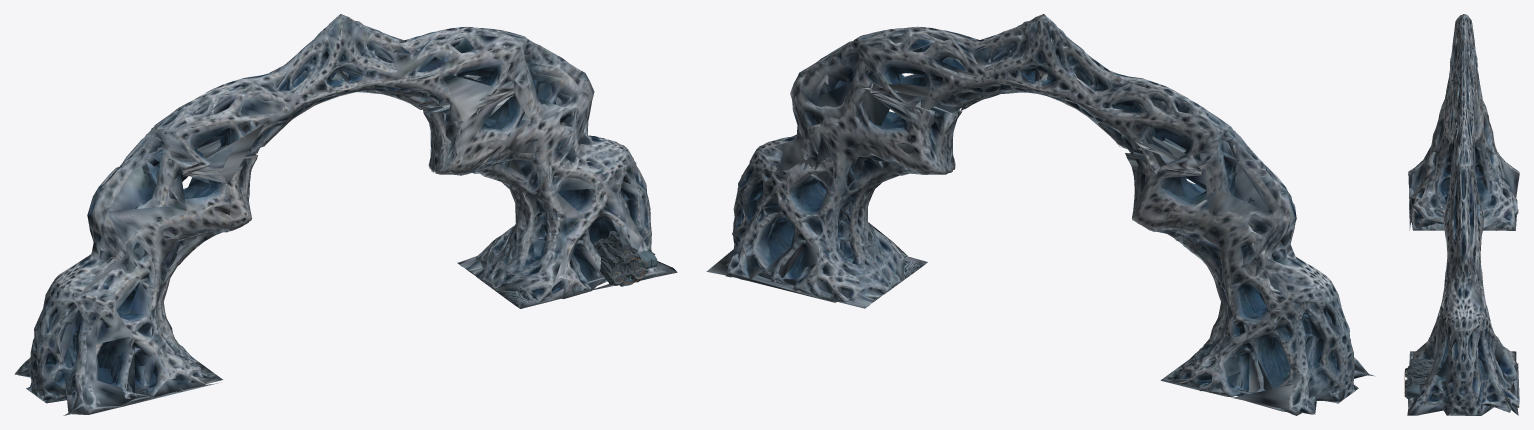
Rendered from terrasa-vrat-v17.glb.
3 renders of one model, left to right at view 1: azimuth 30°, elevation 25°; view 2: azimuth 150°, elevation 25°; view 3: azimuth 270°, elevation 25°, orthographic. The views are drawn at different scales.
Visible parts, largest first — view 1: LOD0_Mineral, LOD2_Mineral, LOD1_Mineral; view 2: LOD0_Mineral, LOD1_Mineral, LOD2_Mineral; view 3: LOD0_Mineral, LOD1_Mineral, LOD2_Mineral.
Part boxes in pixels (bbox=[...]): LOD0_Mineral: bbox=[14, 14, 657, 415]; LOD2_Mineral: bbox=[29, 14, 677, 414]; LOD1_Mineral: bbox=[15, 14, 672, 413]; LOD0_Mineral: bbox=[725, 14, 1374, 415]; LOD1_Mineral: bbox=[724, 14, 1368, 415]; LOD2_Mineral: bbox=[706, 16, 1368, 409]; LOD0_Mineral: bbox=[1405, 14, 1519, 415]; LOD1_Mineral: bbox=[1404, 14, 1519, 415]; LOD2_Mineral: bbox=[1406, 19, 1519, 415].
Bounding box in the file's own units: 121 × 58.14 × 23.52.
3 materials, 1 textured.
